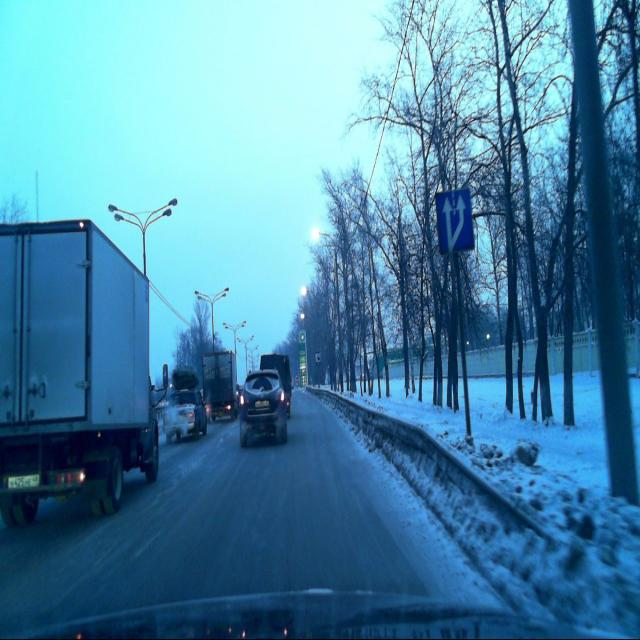road sign: (455, 252, 472, 438), (434, 188, 474, 254)
